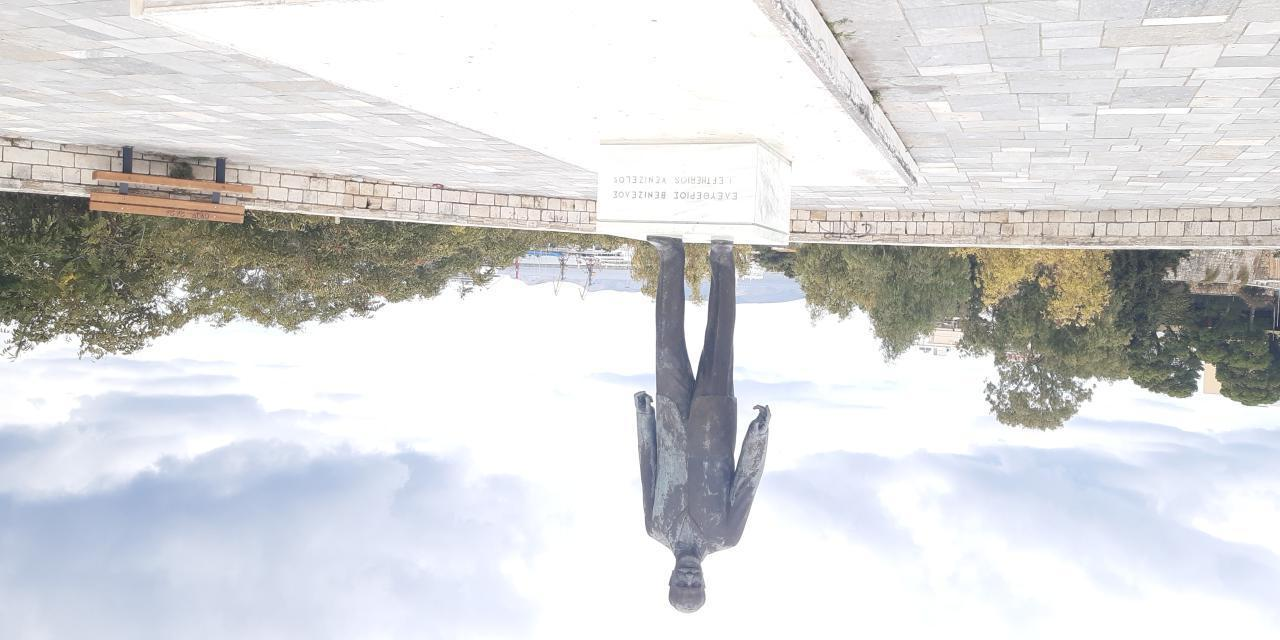Venizelos: (635, 238, 768, 612)
